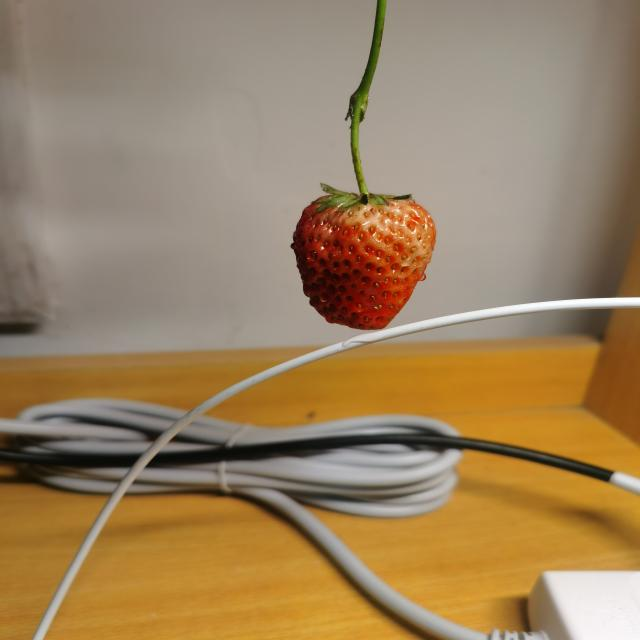stem: (350, 116, 370, 199)
strawberry: (289, 193, 436, 330)
